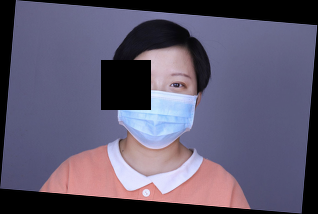with_mask: (115, 70, 198, 152)
